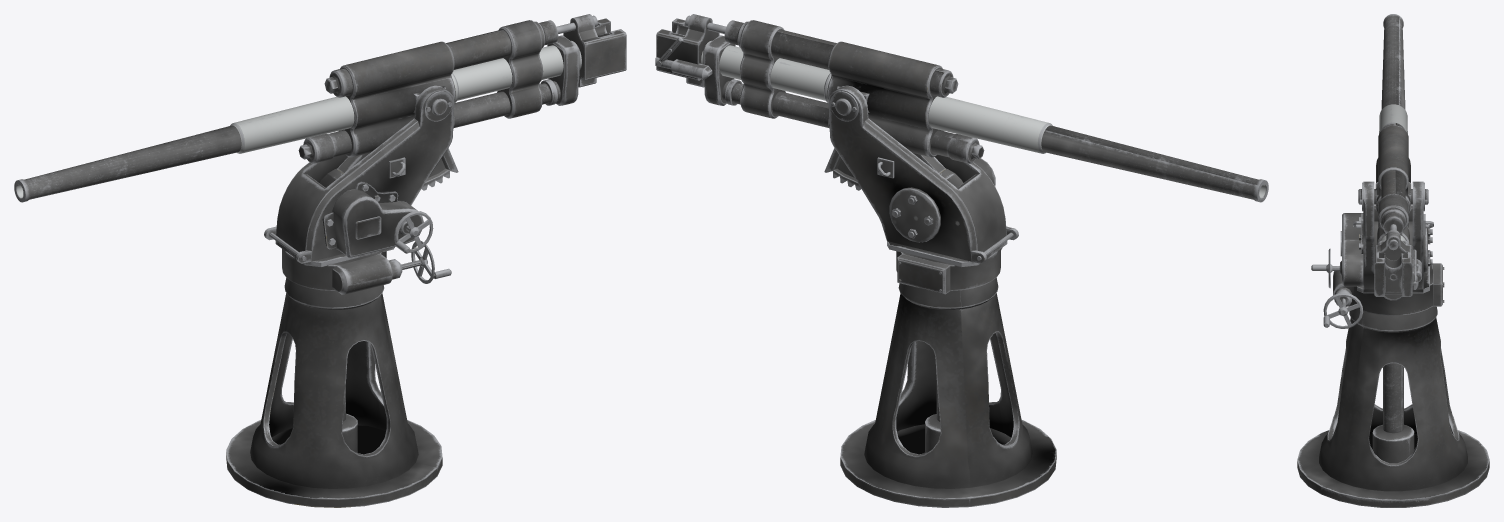
The picture shows the model from 3 angles, left to right: view 1: azimuth 30°, elevation 25°; view 2: azimuth 150°, elevation 25°; view 3: azimuth 270°, elevation 25°; orthographic projection. The views are drawn at different scales.
Visible parts, largest first — view 1: Part Studio 1; view 2: Part Studio 1; view 3: Part Studio 1.
Part boxes in pixels (left/top/right/bottom): Part Studio 1: left=14, top=14, right=626, bottom=507; Part Studio 1: left=655, top=14, right=1268, bottom=507; Part Studio 1: left=1297, top=14, right=1489, bottom=507.
Size of the model in its own units: 116 by 73.2 by 36.7.
